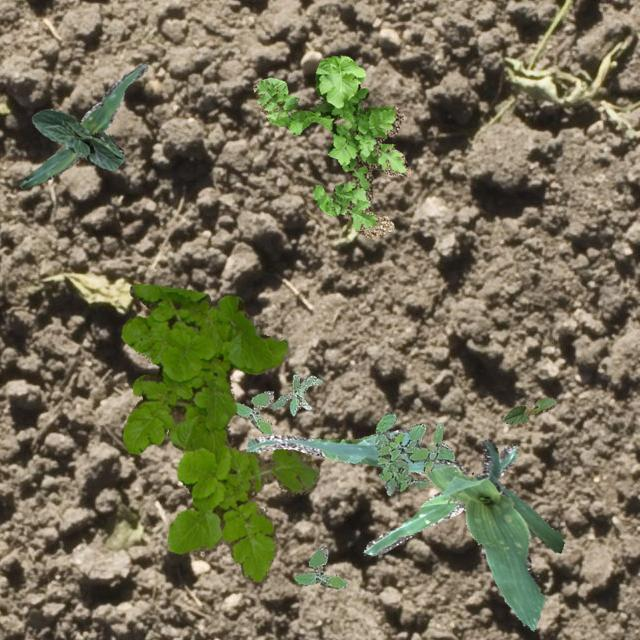crop: (246, 428, 564, 630), (362, 444, 516, 554), (18, 61, 146, 188), (30, 109, 124, 170), (502, 397, 556, 423)
weed: (120, 283, 318, 582), (252, 54, 409, 238), (372, 410, 453, 494), (292, 544, 348, 588), (268, 374, 320, 414), (235, 390, 272, 434)
